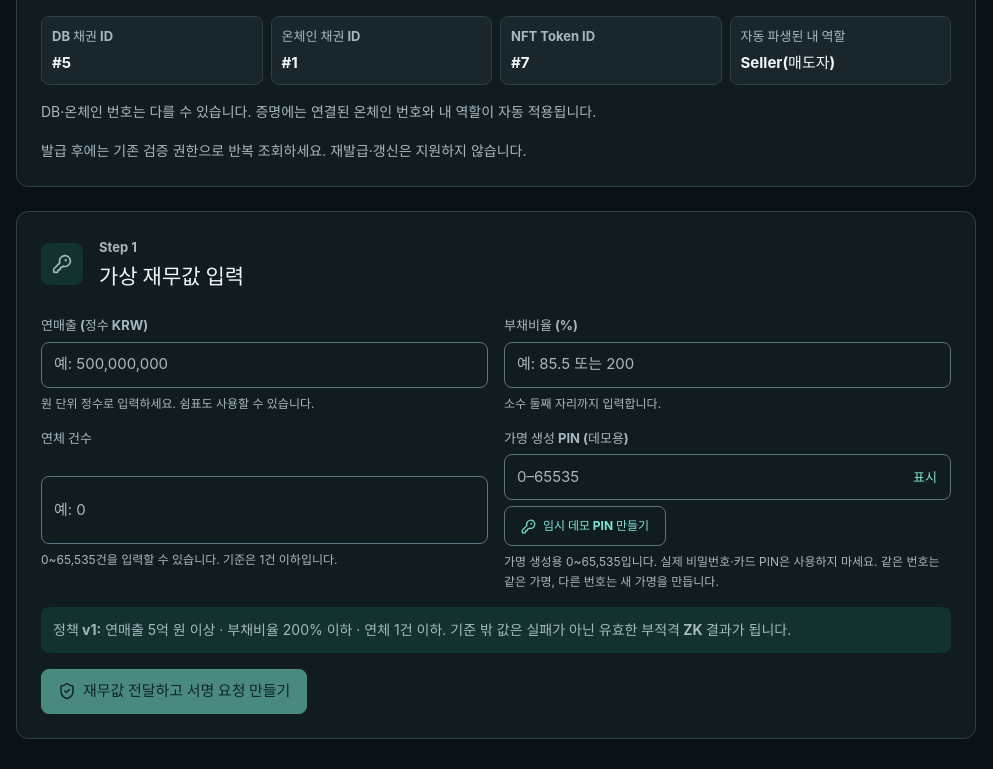
MidnightProveView › focuses a step-specific Bridge failure and preserves every private input for retry
The image size is (993, 769).
(page scrolled)
Type "500,000,000" into the field labelled "연매출 (정수 KRW)".
click(264, 365); type("500,000,000")  # box [41,342,488,388]
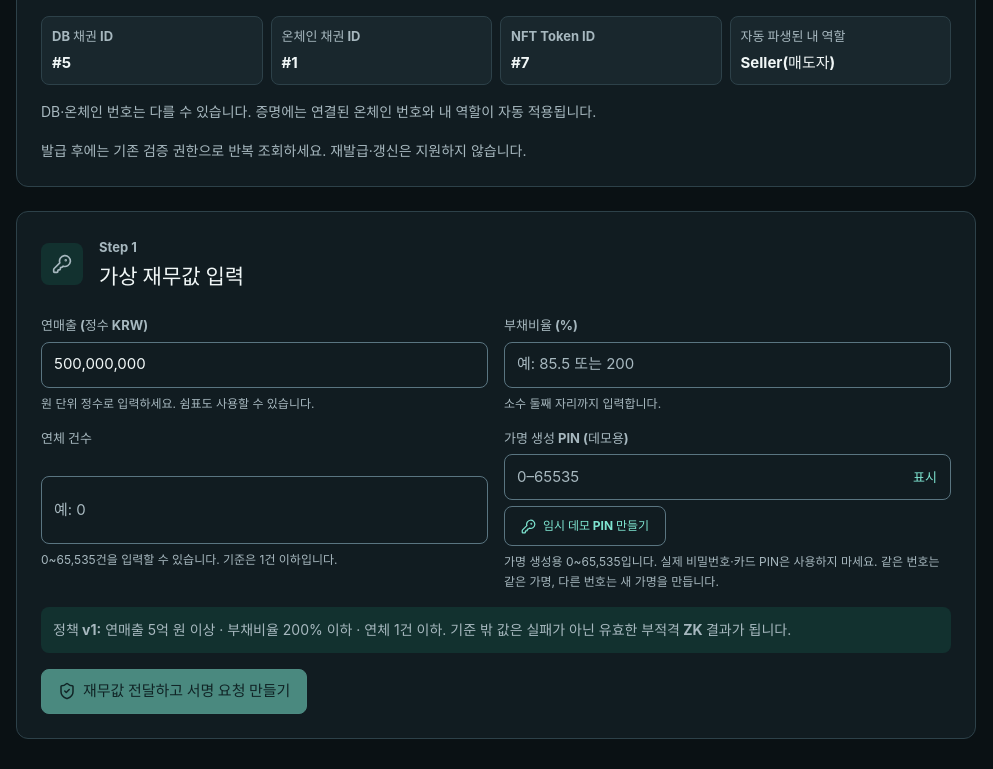
Type "85.5" into the field labelled "부채비율 (%)".
click(728, 365); type("85.5")  # box [504,342,951,388]
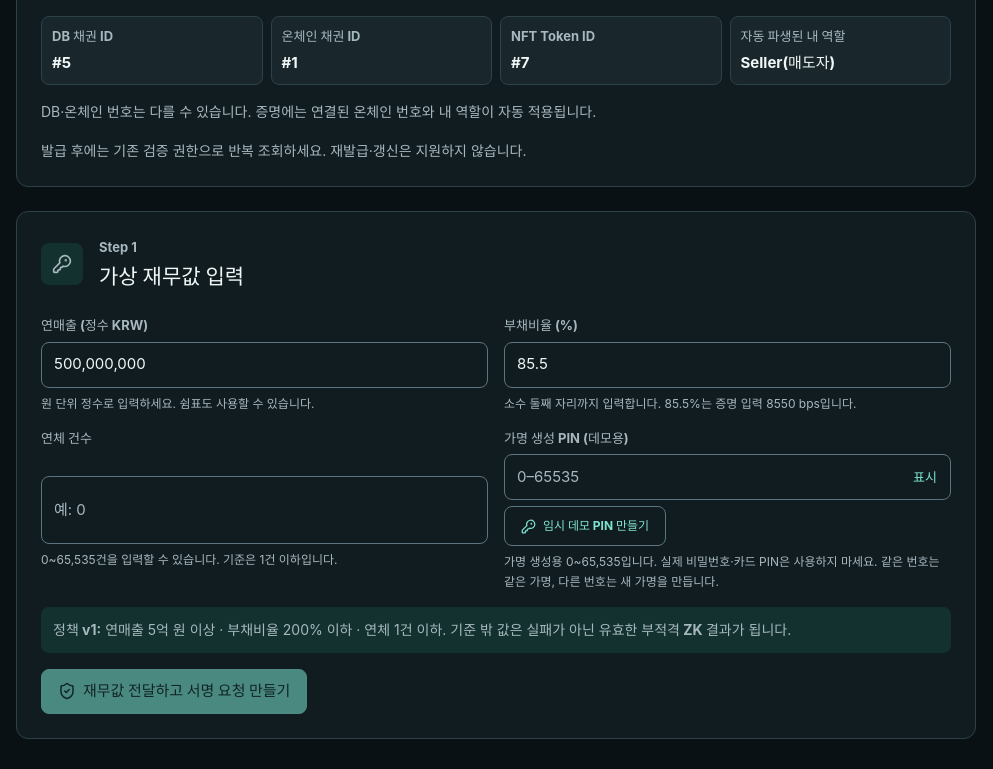
Type "1" into the field labelled "연체 건수".
click(264, 510); type("1")  # box [41,476,488,544]
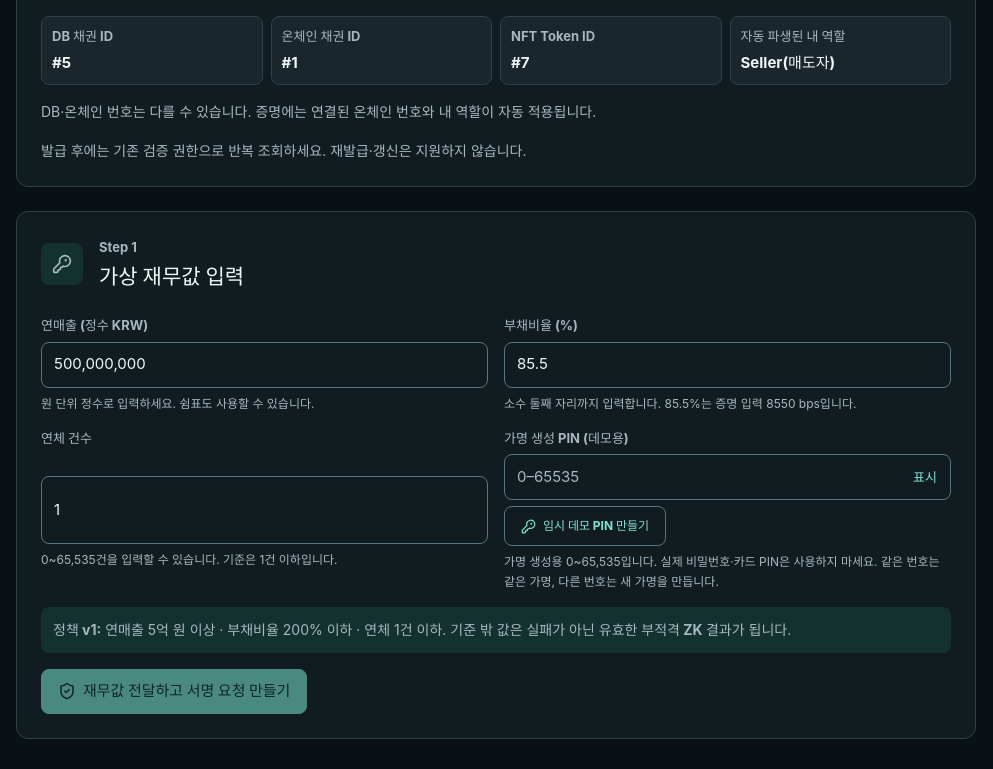
Type "1349" into the password field labelled "가명 생성 PIN (데모용)".
click(728, 477); type("1349")  # box [504,454,951,500]
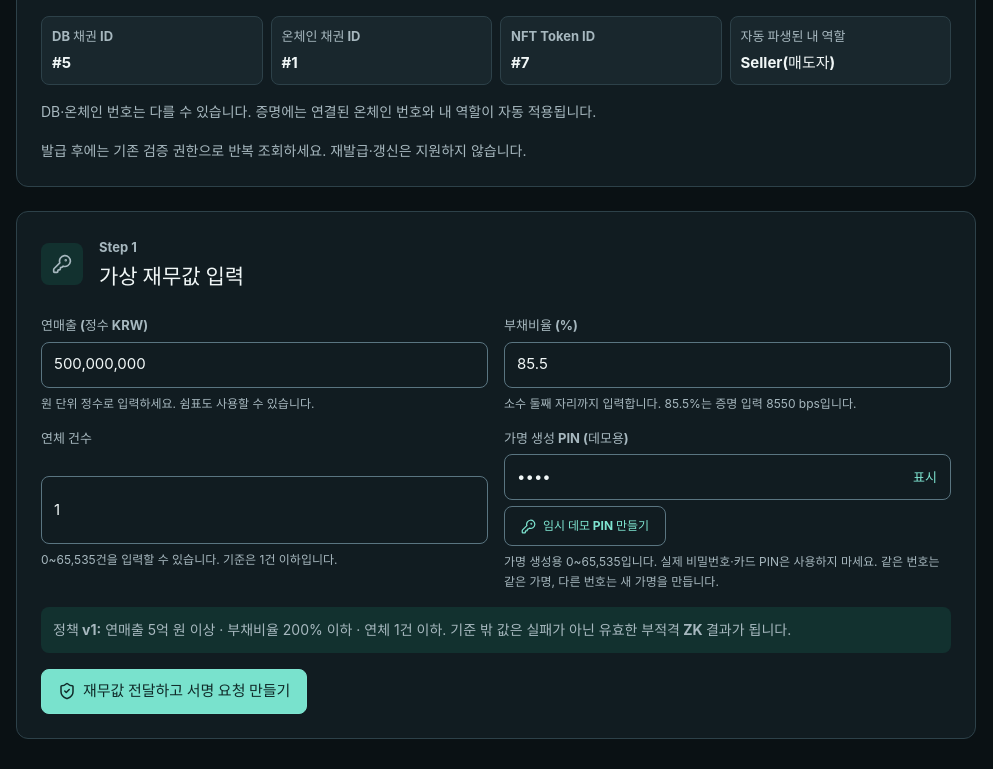
Submit the form, box [41,316,951,714]
(page scrolled)
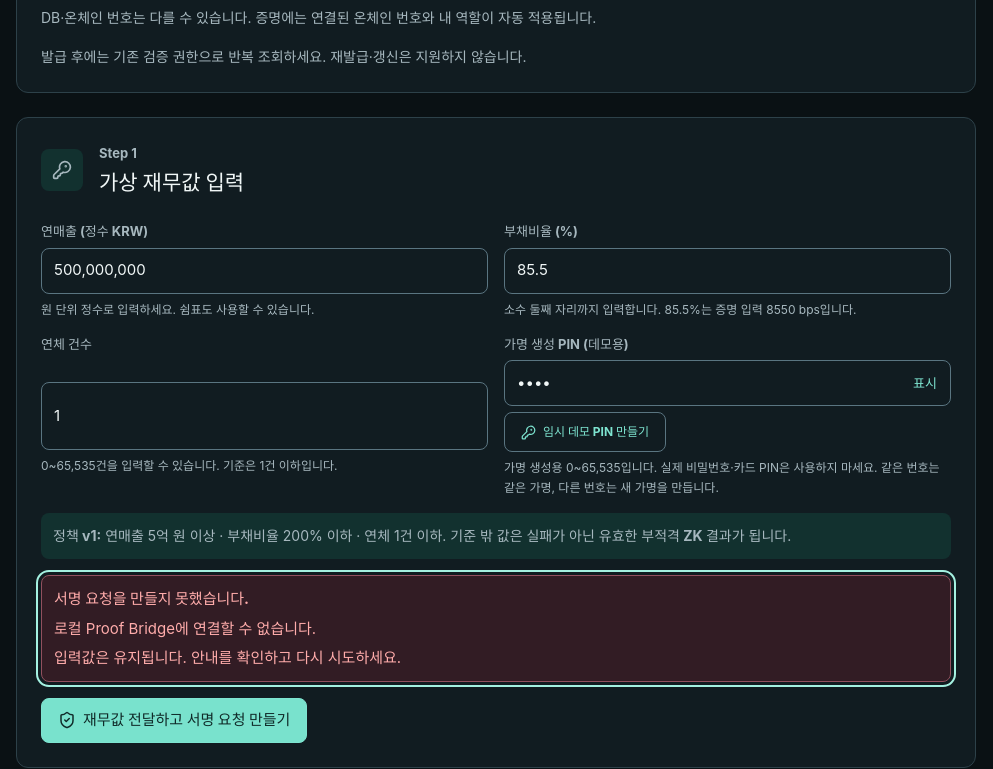
Check: the message with class "challenge-error" shows "서명 요청을 만들지 못했습니다", box [54,589,249,608]
Check: the message with class "challenge-error" shows "로컬 Proof Bridge에 연결할 수 없습니다", box [54,619,316,638]
Check: the message with class "challenge-error" shows "입력값은 유지됩니다", box [54,648,401,667]
